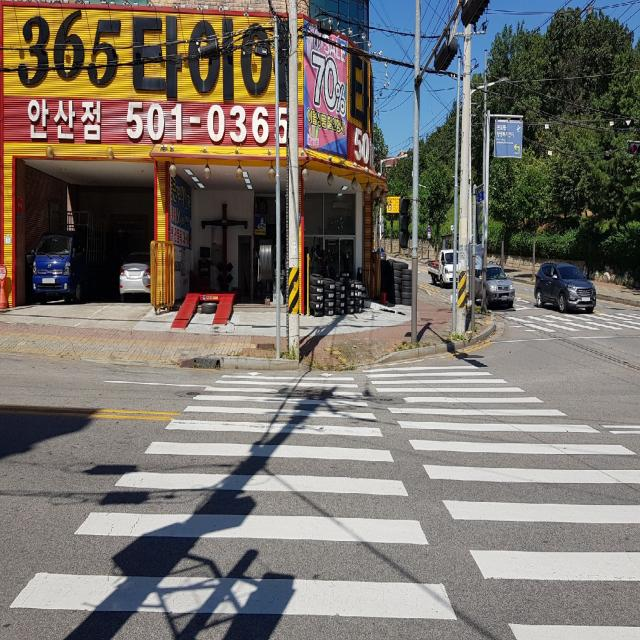횡단보도: (8, 362, 640, 640), (509, 314, 640, 331)
